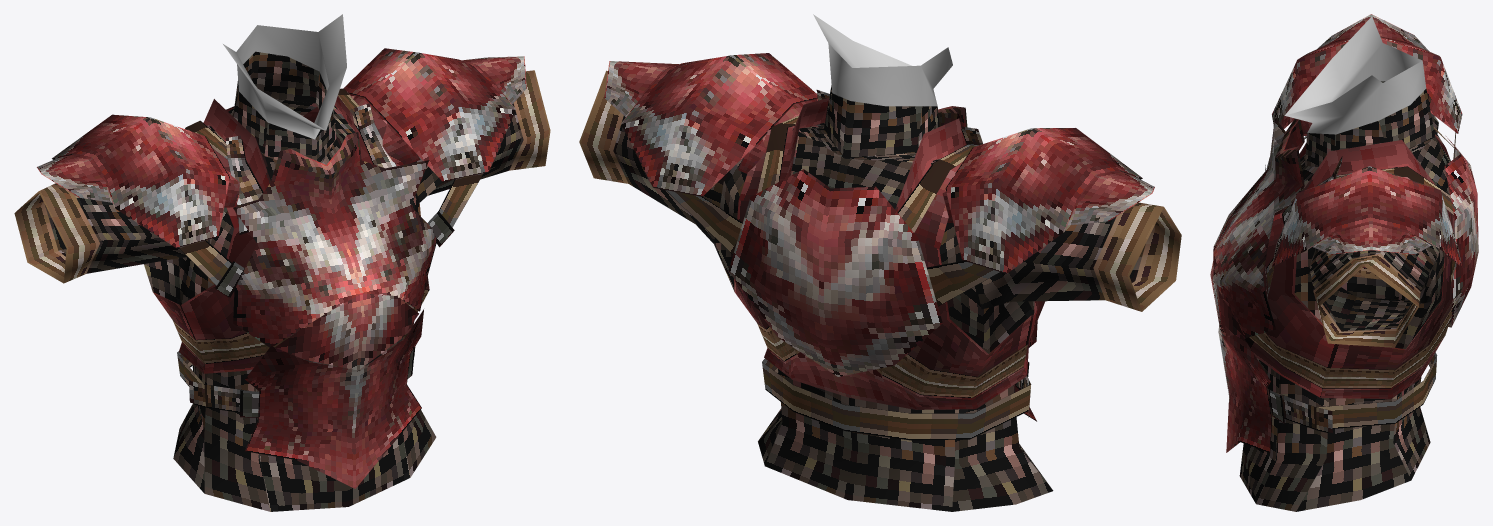
File: f_plate200.obj
The picture shows the model from 3 angles, left to right: view 1: azimuth 30°, elevation 25°; view 2: azimuth 150°, elevation 25°; view 3: azimuth 270°, elevation 25°; orthographic projection. The views are drawn at different scales.
Parts seen in each view (by area): view 1: mesh00, mesh02, mesh01; view 2: mesh00, mesh02, mesh01; view 3: mesh00, mesh02, mesh01.
Part boxes in pixels (bbox=[...]): mesh00: bbox=[14, 48, 550, 511]; mesh02: bbox=[223, 14, 346, 139]; mesh01: bbox=[173, 289, 429, 363]; mesh00: bbox=[579, 53, 1181, 511]; mesh02: bbox=[813, 14, 952, 106]; mesh01: bbox=[757, 323, 1027, 397]; mesh00: bbox=[1210, 14, 1478, 511]; mesh02: bbox=[1284, 16, 1426, 134]; mesh01: bbox=[1249, 267, 1451, 388].
Size of the model in its own units: 63.38 by 52.46 by 29.64.
